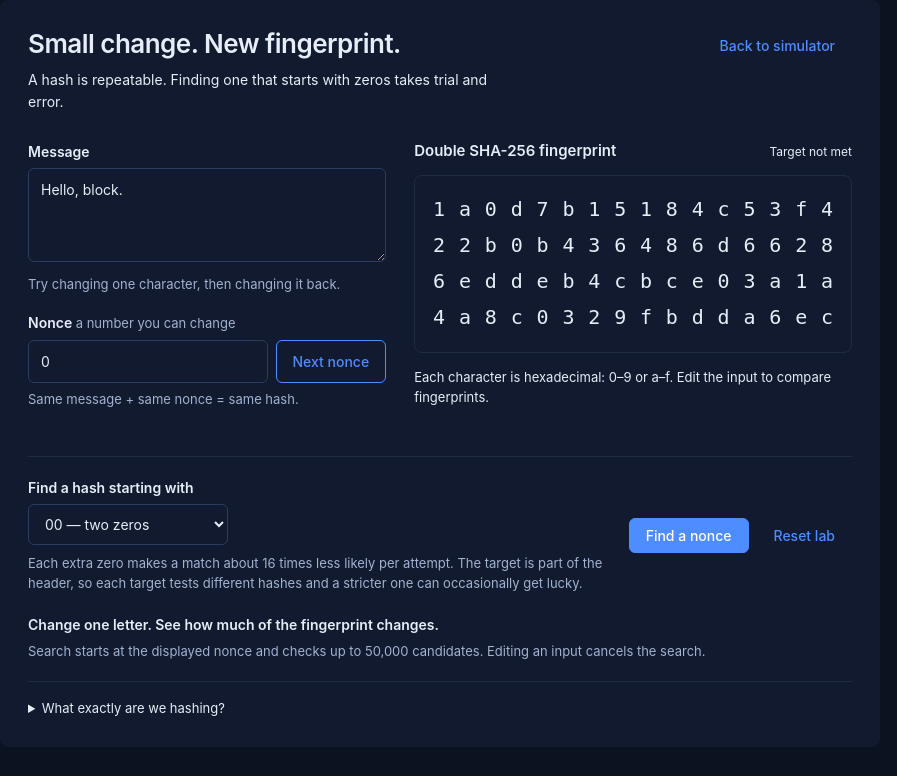
HashLab independent interaction › invalidates a pending search on reset
Replace the text in the text box labelled "Message" with "Stop experiment 264" at (207, 215), box [28,168,386,262]
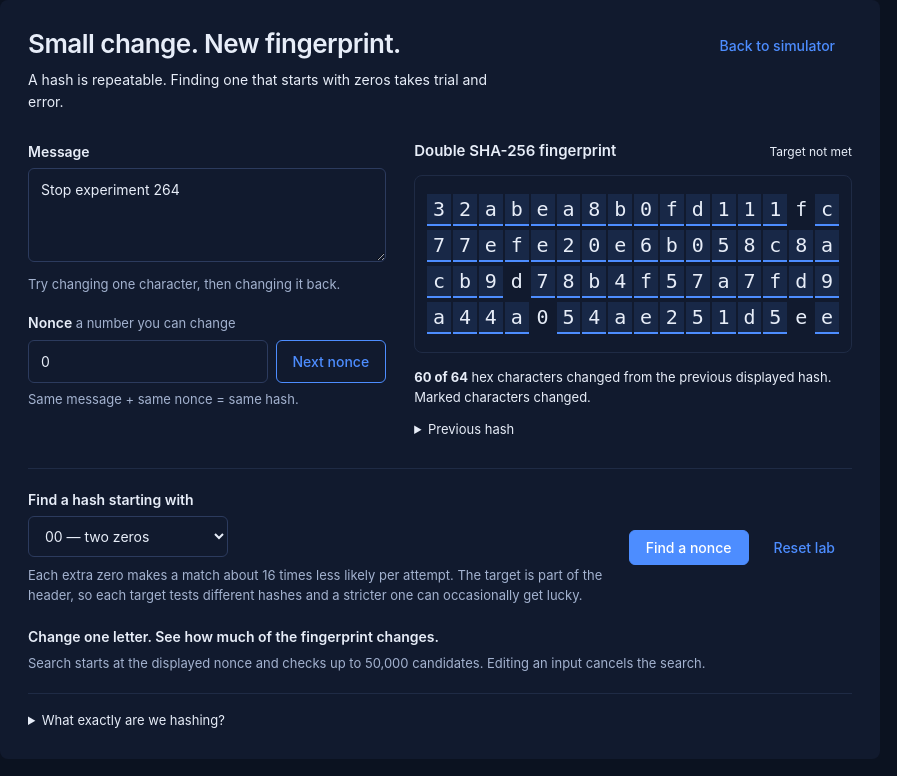
Select "000 — three zeros" in the dropdown labelled "Find a hash starting with" at (128, 537), box [28,516,228,557]
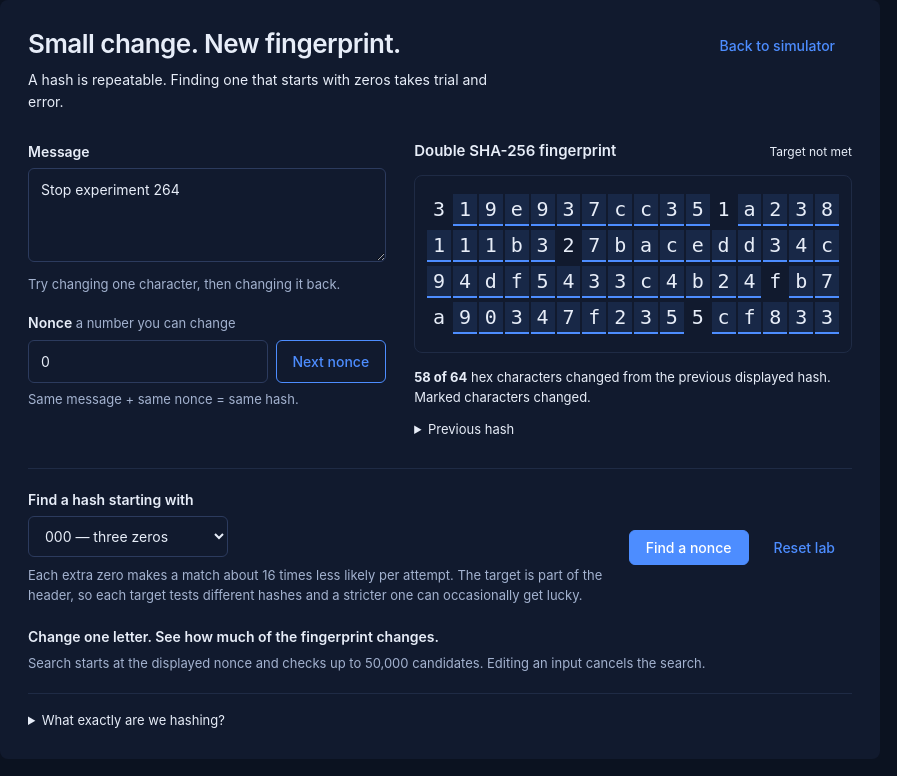
Click the button "Find a nonce" at (689, 547), box [629,530,748,565]
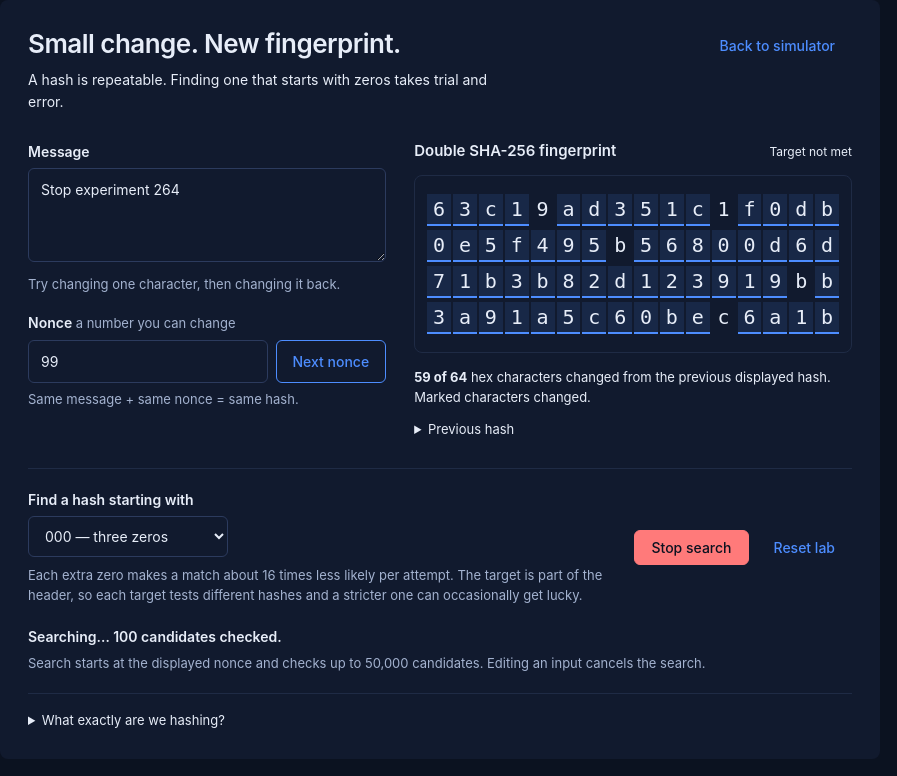
Now the field labelled "Nonce a number you can change" holds "99", box [28,340,268,384]
Click the button "Reset lab" at (804, 547), box [756,530,852,565]
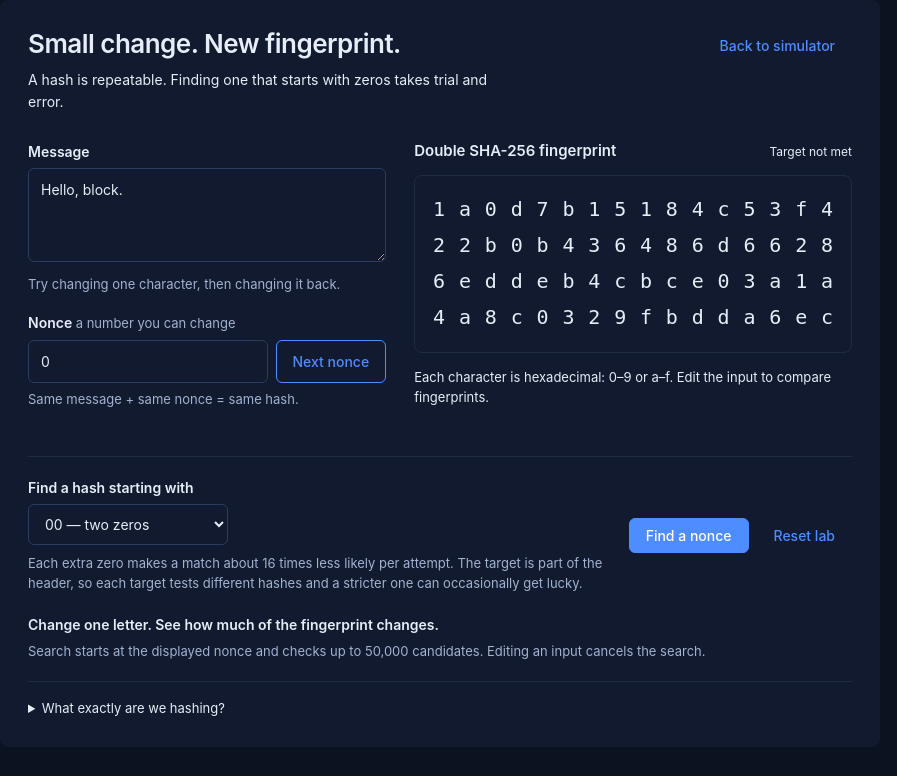
Now the message reads "Change one letter. See how much of the fingerprint changes.", box [28,616,439,633]
Now the button "Stop search" is gone
